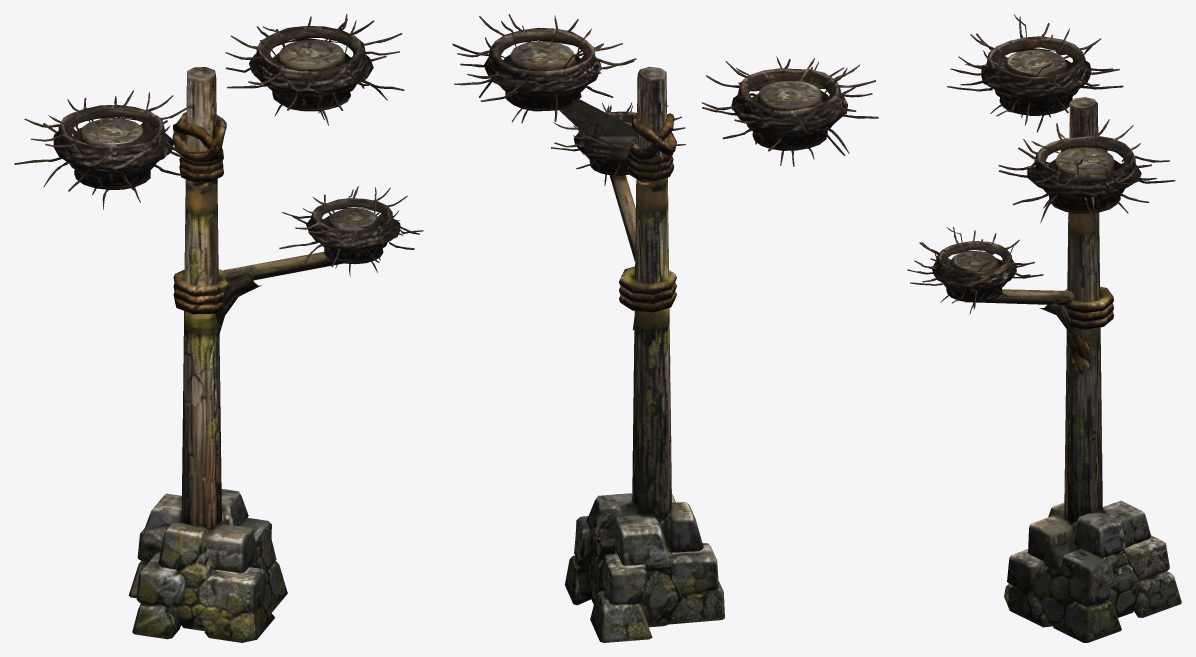
Rendered from act1-a07-6-roost-pole-trim.glb.
The picture shows the model from 3 angles, left to right: view 1: azimuth 30°, elevation 25°; view 2: azimuth 150°, elevation 25°; view 3: azimuth 270°, elevation 25°; orthographic projection. The views are drawn at different scales.
Visible parts, largest first — view 1: act1-a07-6-roost-pole-trim; view 2: act1-a07-6-roost-pole-trim; view 3: act1-a07-6-roost-pole-trim.
Boxes of the visible parts, box(x1,y1,x2,y2) form: act1-a07-6-roost-pole-trim: box(14, 14, 423, 642); act1-a07-6-roost-pole-trim: box(452, 14, 878, 642); act1-a07-6-roost-pole-trim: box(907, 14, 1181, 642).
Bounding box in the file's own units: 4.21 × 5.87 × 2.83.
Materials: 1 (1 with a texture image).
